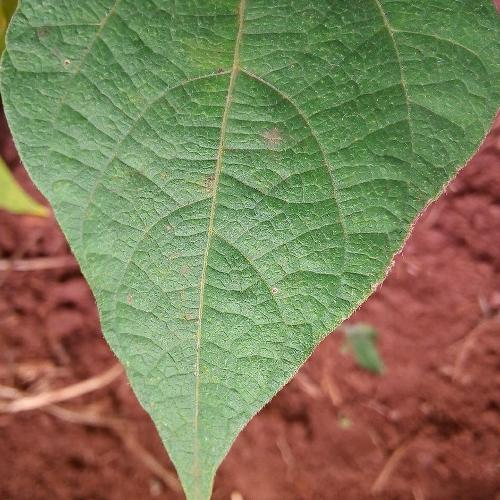sehat: (100, 0, 294, 257)
